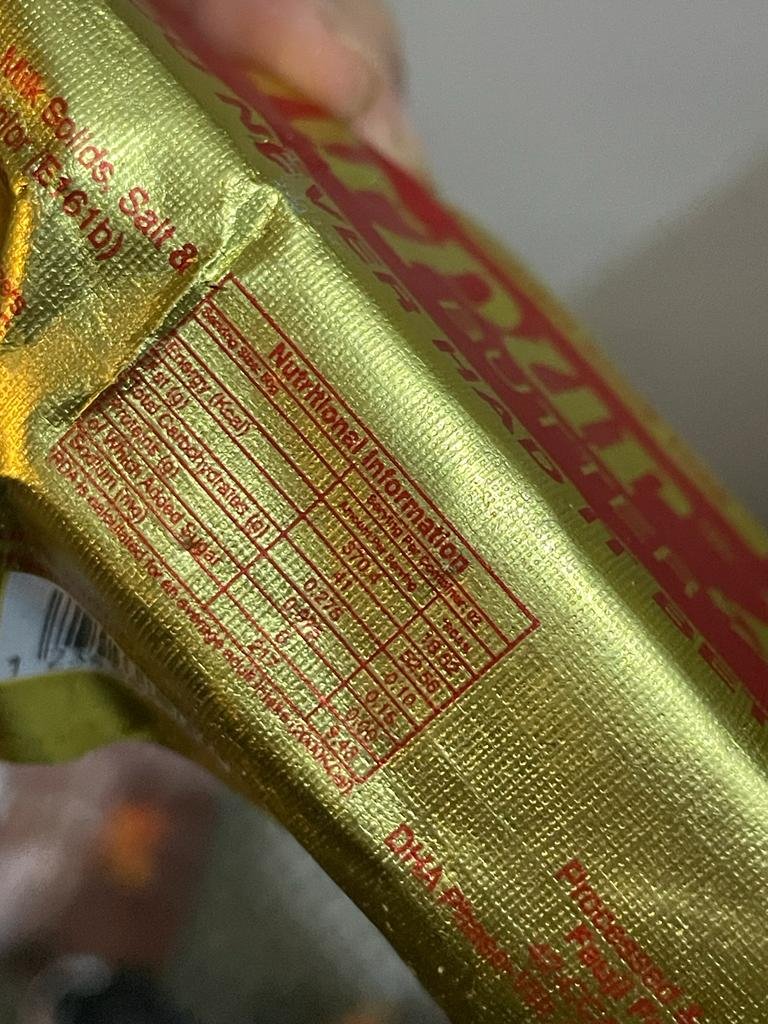table: (43, 274, 543, 804)
